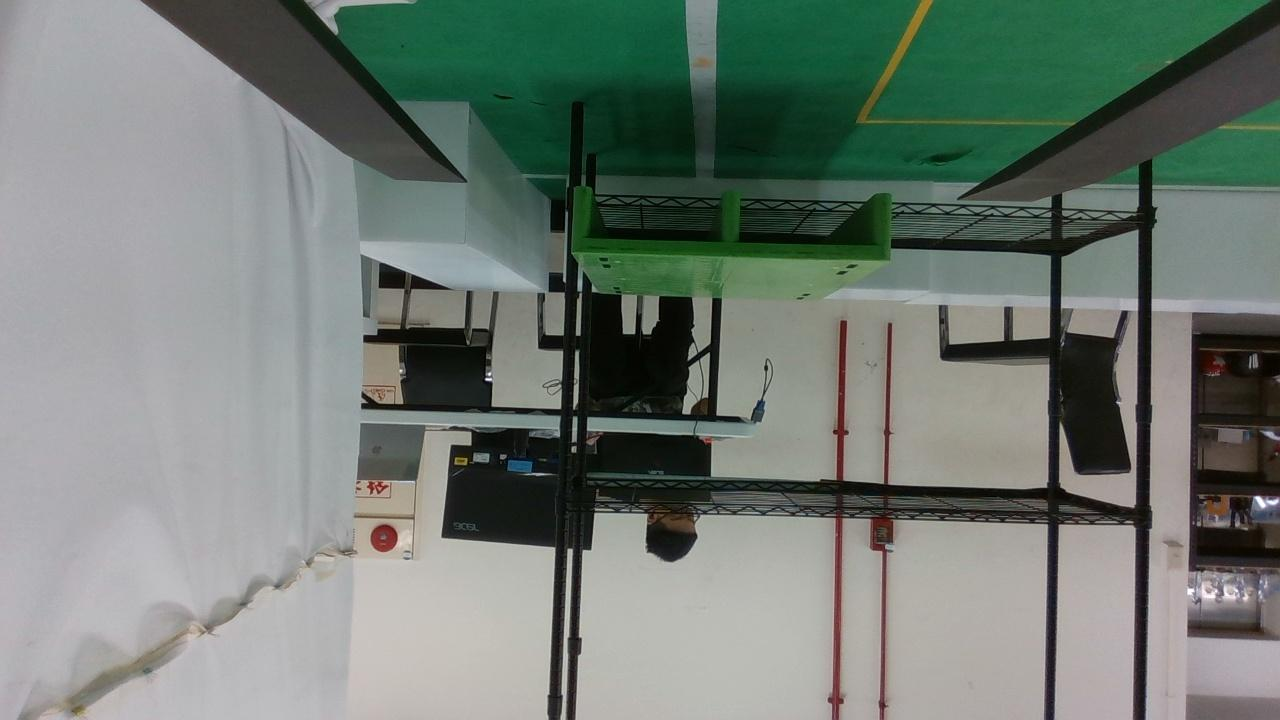Pallet: (567, 182, 894, 263)
